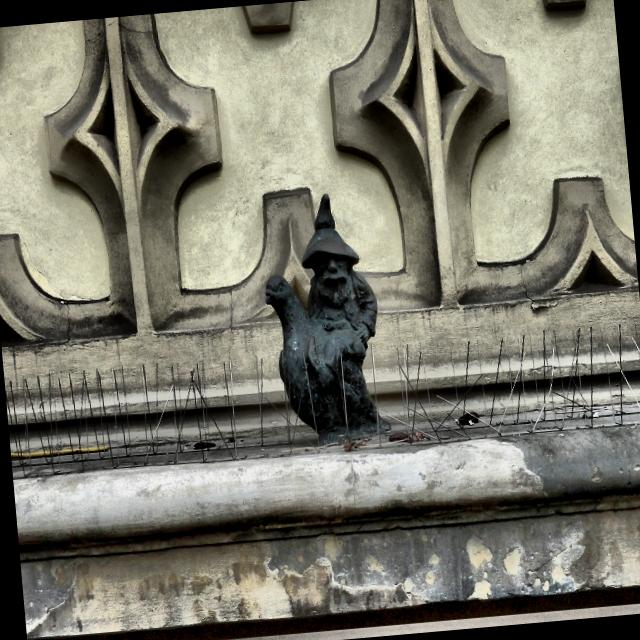Golebnik: (264, 194, 391, 452)
